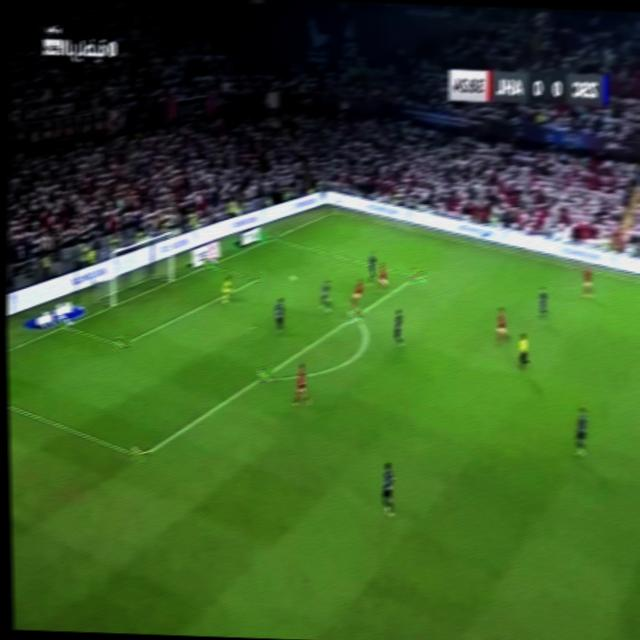bigarea_bottom_inner: (131, 442, 150, 466)
bigarea_top_inner: (407, 266, 426, 284)
bigarea_top_outter: (267, 230, 280, 243)
bottom_arc_area_intersection: (256, 366, 273, 384)
smallarea_bottom_inner: (113, 333, 131, 352)
smallarea_bottom_outter: (57, 318, 73, 332)
smallarea_top_inner: (251, 270, 265, 284)
smallarea_top_outter: (203, 256, 216, 270)
top_arc_area_intersection: (347, 306, 363, 324)
